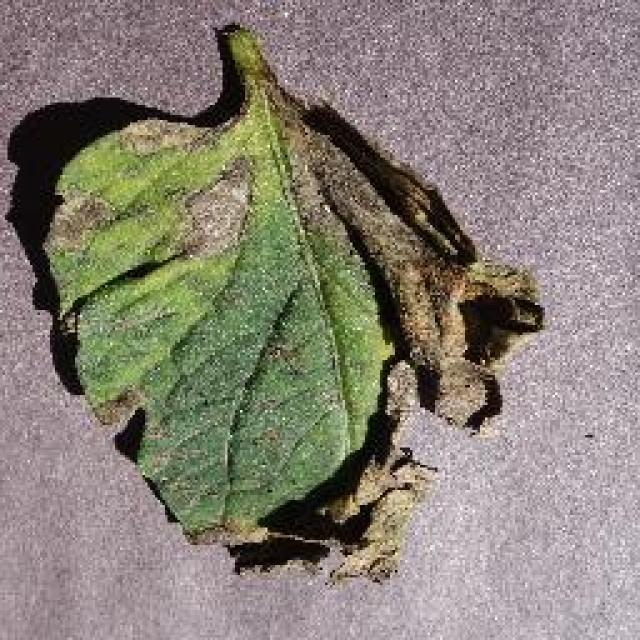Tomato___Early_blight: (41, 13, 544, 586)
